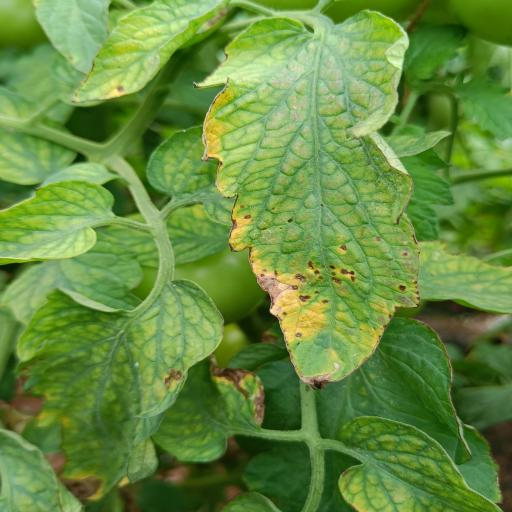Early Blight: (198, 9, 426, 394)
